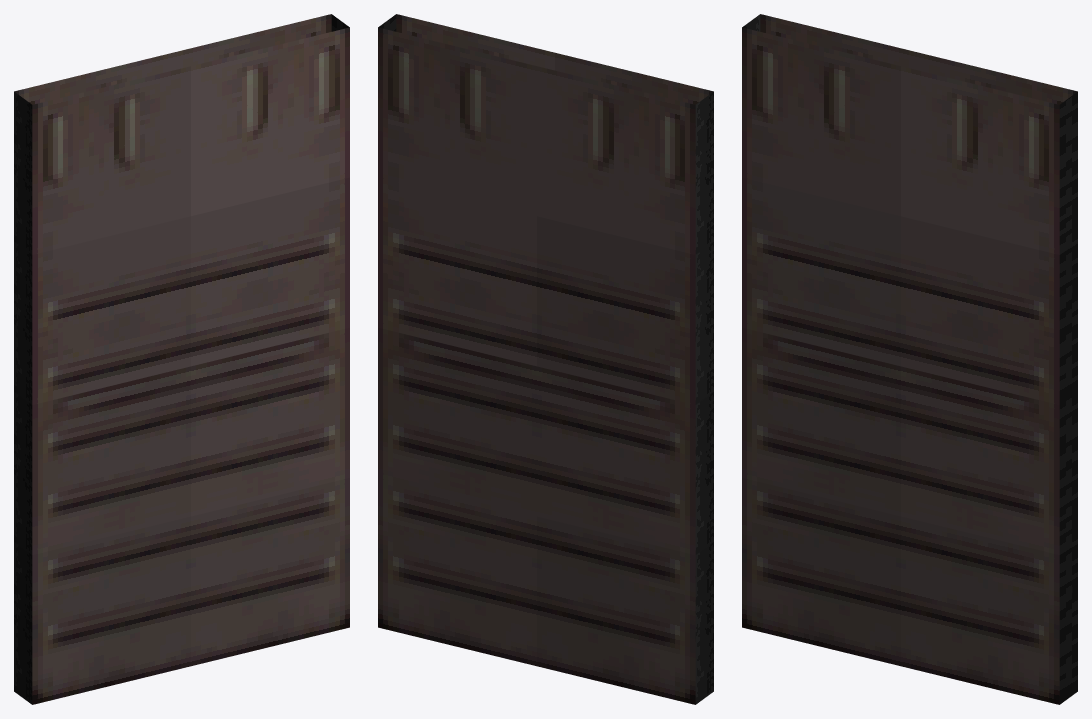
The model's file is primary_242.glb.
The picture shows the model from 3 angles, left to right: view 1: azimuth 30°, elevation 25°; view 2: azimuth 150°, elevation 25°; view 3: azimuth 330°, elevation 25°; orthographic projection.
Parts seen in each view (by area): view 1: Object; view 2: Object; view 3: Object.
Part boxes in pixels (left/top/right/bottom): Object: left=14, top=14, right=349, bottom=704; Object: left=378, top=14, right=713, bottom=704; Object: left=742, top=14, right=1077, bottom=704.
Size of the model in its own units: 1.5 by 2.71 by 0.15.
16 materials, 16 textured.
